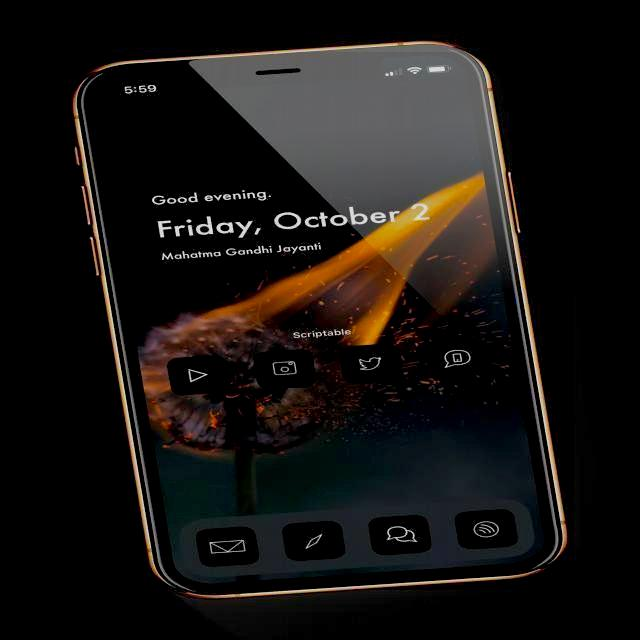phone: (63, 31, 569, 604)
